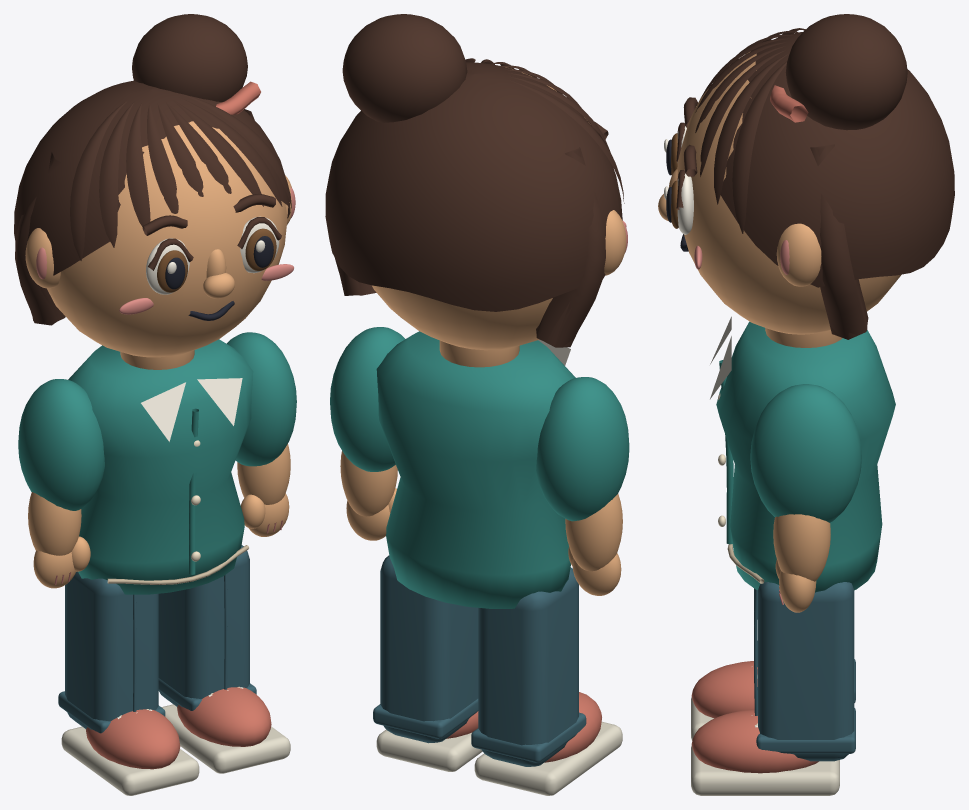
The model's file is female.glb.
The picture shows the model from 3 angles, left to right: view 1: azimuth 30°, elevation 25°; view 2: azimuth 150°, elevation 25°; view 3: azimuth 270°, elevation 25°; orthographic projection. The views are drawn at different scales.
Visible parts, largest first — view 1: Head_hair, Crafted_teal, Head_skin, LegL_pants, LegR_pants, ArmL_teal, ArmR_teal, ArmL_skin, LegR_coral, LegL_coral, LegL_rubber, ArmR_skin (+9 smaller); view 2: Head_hair, Crafted_teal, LegL_pants, LegR_pants, ArmL_teal, Head_skin, ArmR_teal, ArmL_skin, LegL_rubber, ArmR_skin, LegR_rubber, Crafted_skin (+1 smaller); view 3: Head_hair, Crafted_teal, LegR_pants, Head_skin, ArmR_teal, ArmR_skin, LegR_coral, LegR_rubber, LegL_coral, Crafted_skin, Head_white, Head_coral (+2 smaller).
Boxes of the visible parts, box(x1,y1,x2,y2) form: Head_hair: box(14, 14, 291, 325); Crafted_teal: box(68, 339, 253, 594); Head_skin: box(25, 121, 291, 357); LegL_pants: box(58, 571, 165, 733); LegR_pants: box(158, 545, 256, 710); ArmL_teal: box(18, 379, 104, 510); ArmR_teal: box(226, 332, 296, 466); ArmL_skin: box(28, 492, 90, 588); LegR_coral: box(177, 687, 271, 746); LegL_coral: box(85, 709, 180, 769); LegL_rubber: box(61, 726, 199, 795); ArmR_skin: box(237, 444, 290, 536); Head_hair: box(325, 14, 624, 347); Crafted_teal: box(376, 331, 575, 608); LegL_pants: box(471, 567, 586, 766); LegR_pants: box(373, 555, 478, 743); ArmL_teal: box(536, 377, 629, 521); Head_skin: box(372, 67, 626, 350); ArmR_teal: box(330, 327, 405, 471); ArmL_skin: box(565, 493, 622, 595); LegL_rubber: box(474, 721, 622, 795); ArmR_skin: box(340, 451, 397, 540); LegR_rubber: box(376, 729, 482, 771); Crafted_skin: box(439, 340, 519, 367); Head_hair: box(676, 14, 954, 339); Crafted_teal: box(716, 321, 895, 592); LegR_pants: box(754, 582, 855, 761); Head_skin: box(658, 51, 901, 334); ArmR_teal: box(750, 384, 861, 522); ArmR_skin: box(773, 514, 830, 612); LegR_coral: box(691, 709, 818, 773); LegR_rubber: box(691, 745, 839, 795); LegL_coral: box(691, 661, 757, 718); Crafted_skin: box(765, 328, 842, 347); Head_white: box(664, 126, 693, 234); Head_coral: box(770, 85, 808, 122).
Size of the model in its own units: 0.98 by 2.48 by 0.8762.
